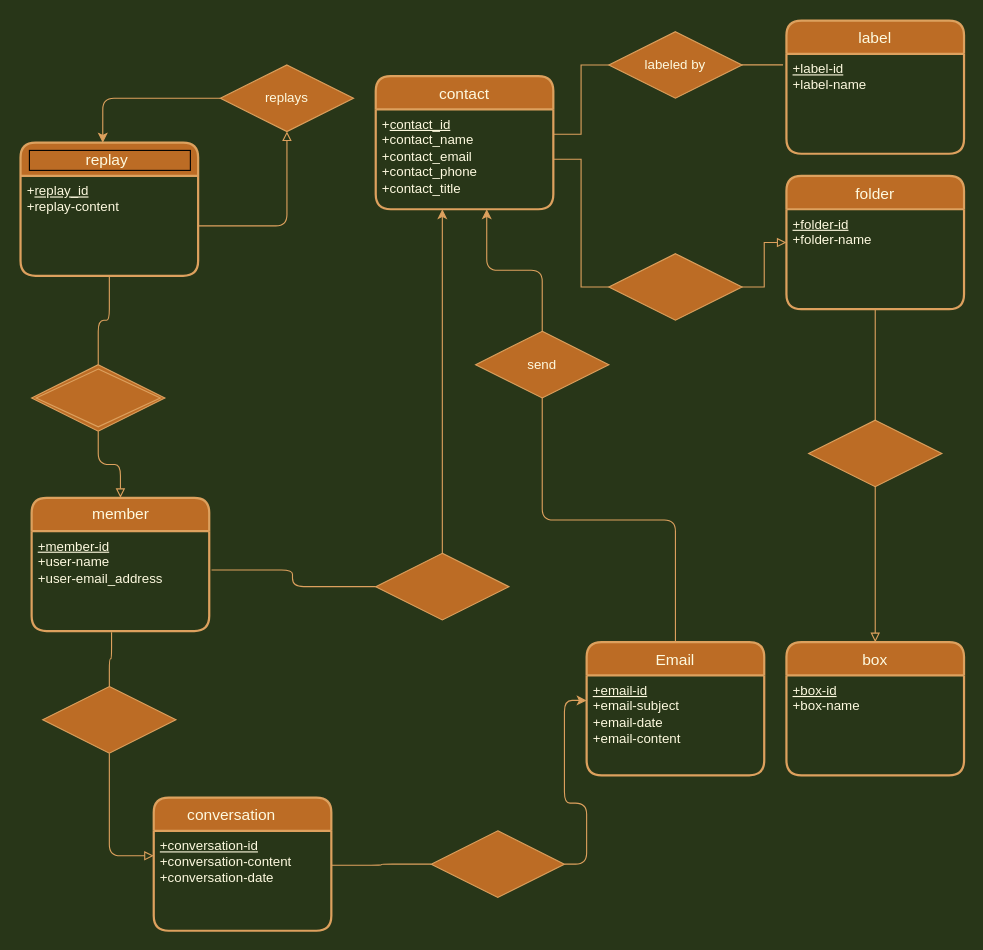
Image size: 983x950. Some labels were removed from this diagram. Each missing label, with the centre of its shape:
becomes: pixel 442 586
exists in: pixel 675 286
exists2: pixel 875 453
groups: pixel 109 719
initiate: pixel 497 863
posts: pixel 98 397
